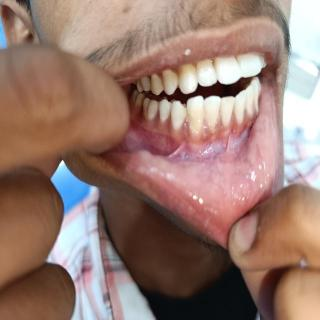plaque: (187, 115, 250, 144)
stains: (158, 113, 169, 125), (138, 106, 146, 120)
